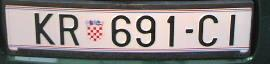-: (185, 27, 194, 35)
1: (165, 15, 176, 48)
6: (111, 15, 132, 48)
9: (136, 14, 157, 48)
C: (197, 13, 220, 47)
I: (228, 13, 237, 47)
K: (34, 12, 55, 46)
R: (58, 13, 80, 46)
